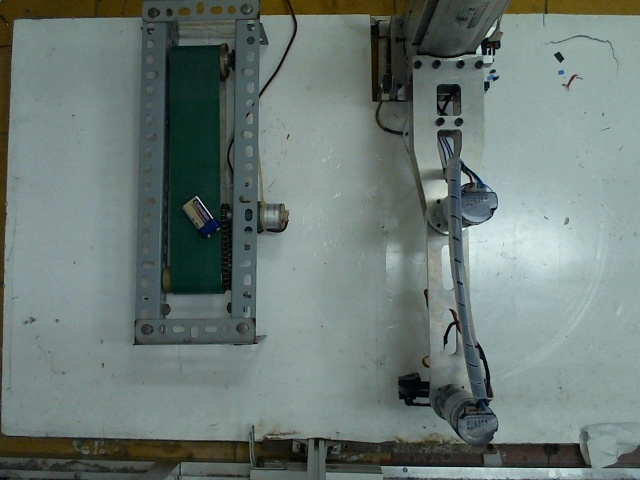battery: (177, 189, 222, 238)
